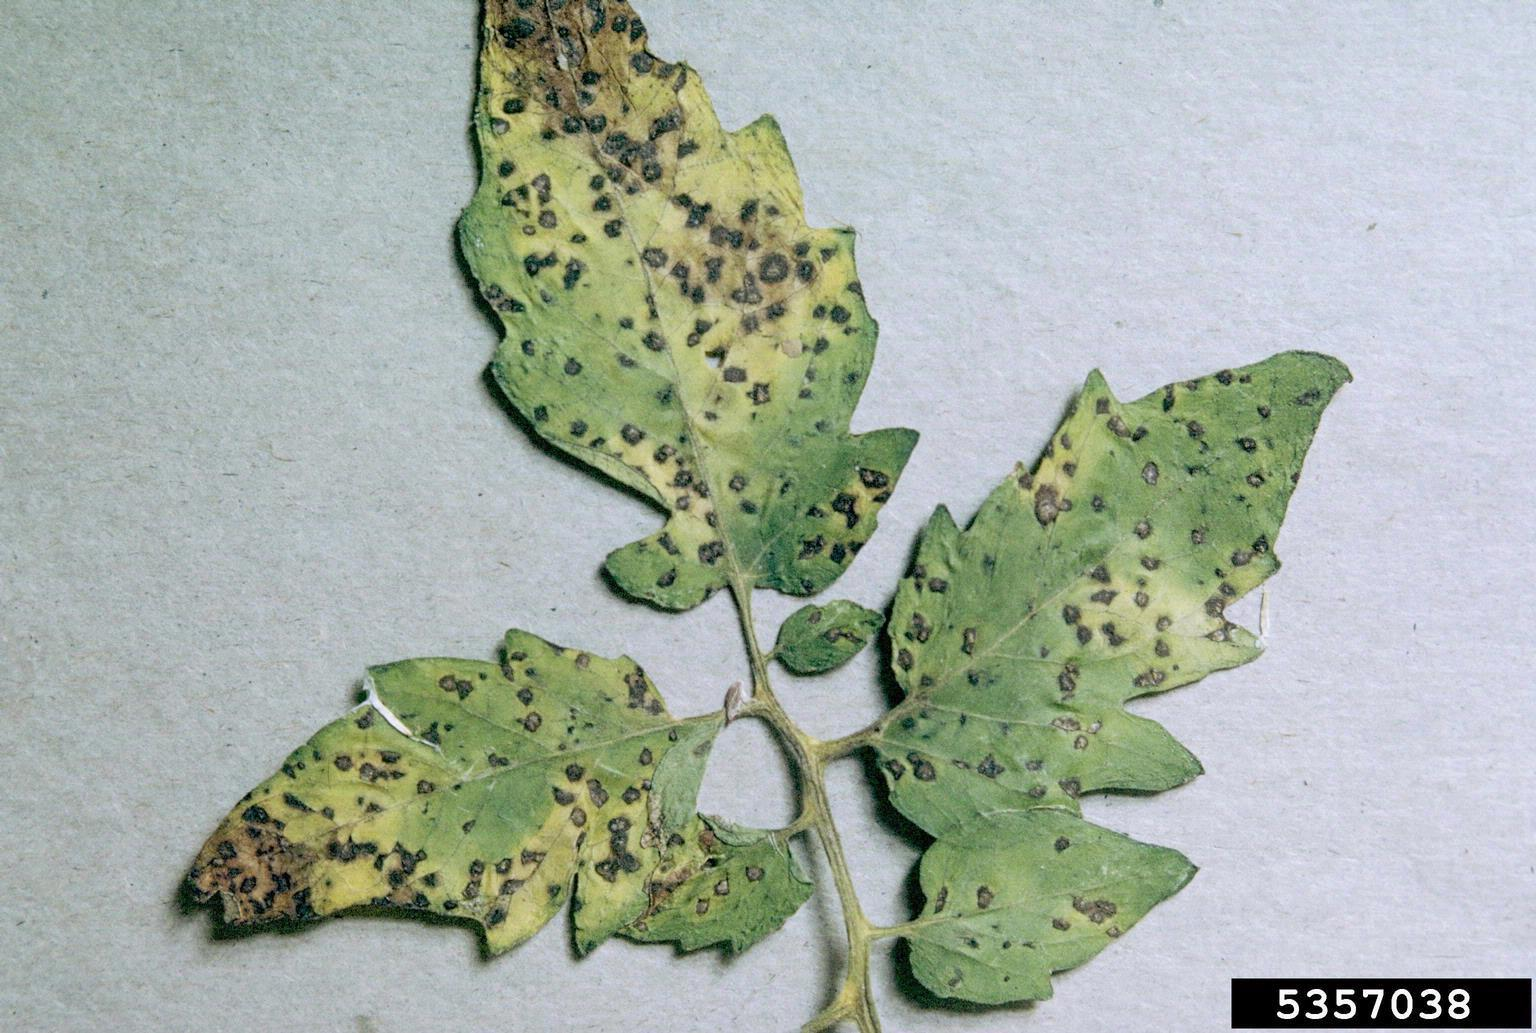black-spot: (929, 558, 1103, 768), (649, 226, 824, 398)
